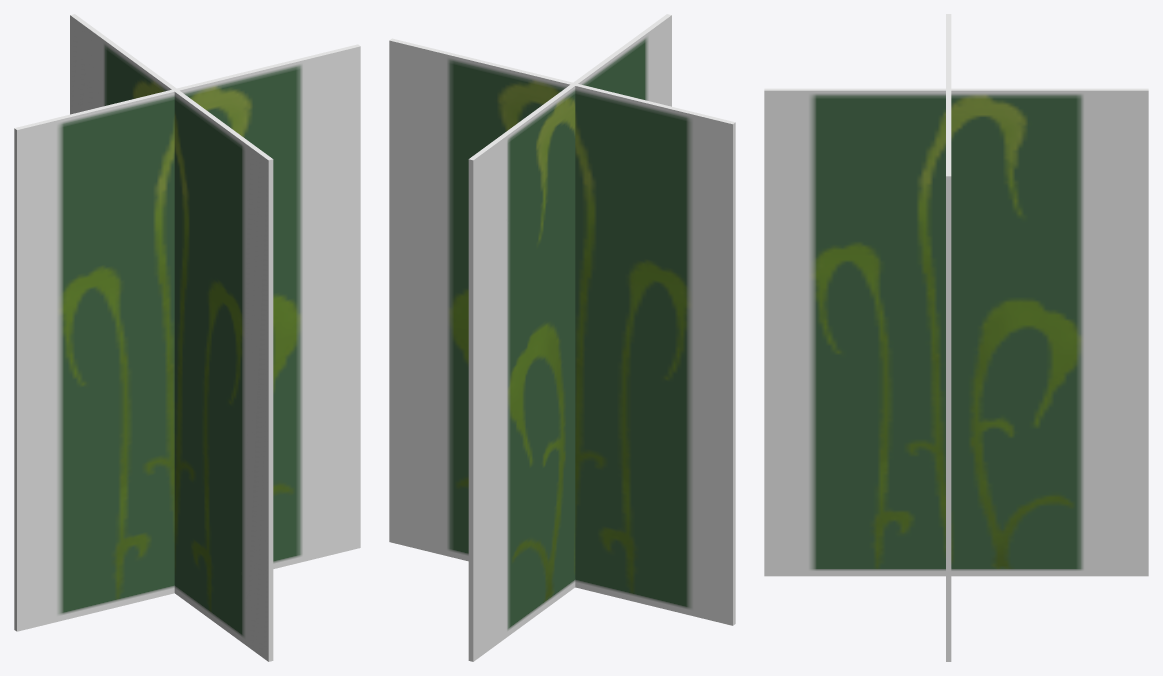
Rendered from Grass7.fbx.
3 renders of one model, left to right at view 1: azimuth 30°, elevation 25°; view 2: azimuth 150°, elevation 25°; view 3: azimuth 270°, elevation 25°, orthographic. The views are drawn at different scales.
Parts seen in each view (by area): view 1: n_grass_diff_0_47; view 2: n_grass_diff_0_47; view 3: n_grass_diff_0_47.
Part boxes in pixels (bbox=[...]): n_grass_diff_0_47: bbox=[14, 14, 360, 661]; n_grass_diff_0_47: bbox=[389, 14, 735, 661]; n_grass_diff_0_47: bbox=[764, 14, 1148, 661].
Size of the model in its own units: 71.7 by 100 by 71.7.
